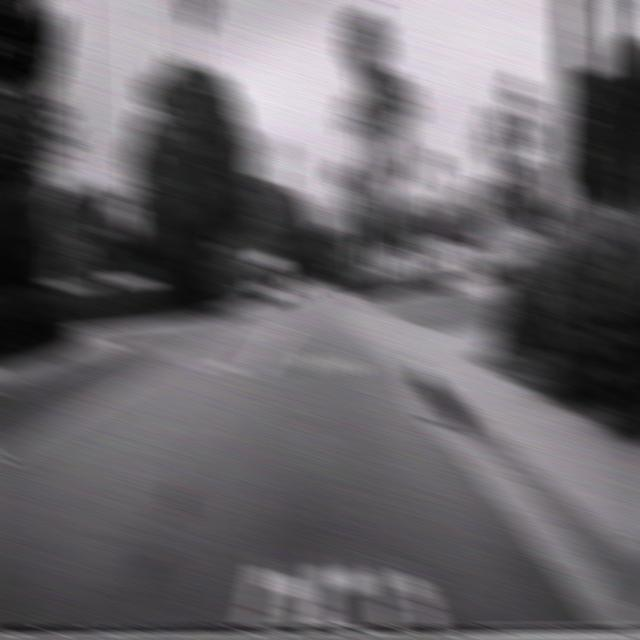pedestrianCrossing: (470, 112, 514, 182)
